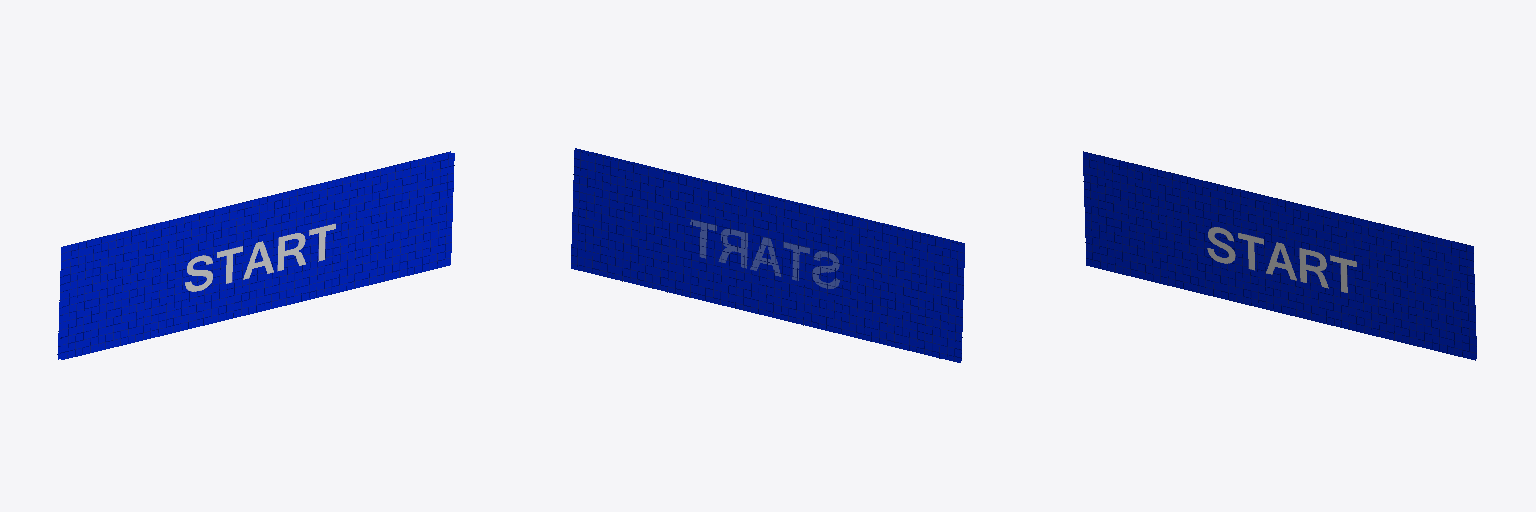
The picture shows the model from 3 angles: view 1: azimuth 30°, elevation 25°; view 2: azimuth 150°, elevation 25°; view 3: azimuth 330°, elevation 25°; orthographic projection.
Parts seen in each view (by area): view 1: pPlane2, pPlane1; view 2: pPlane1, pPlane2; view 3: pPlane2, pPlane1.
Part boxes in pixels (x1,y1,x2,y2): pPlane2: (61, 153, 454, 359); pPlane1: (57, 151, 450, 359); pPlane1: (571, 150, 964, 362); pPlane2: (575, 148, 964, 360); pPlane2: (1083, 153, 1476, 360); pPlane1: (1083, 151, 1476, 358).
Size of the model in its own units: 7.03 by 2 by 0.1874.
Materials: 1 (1 with a texture image).